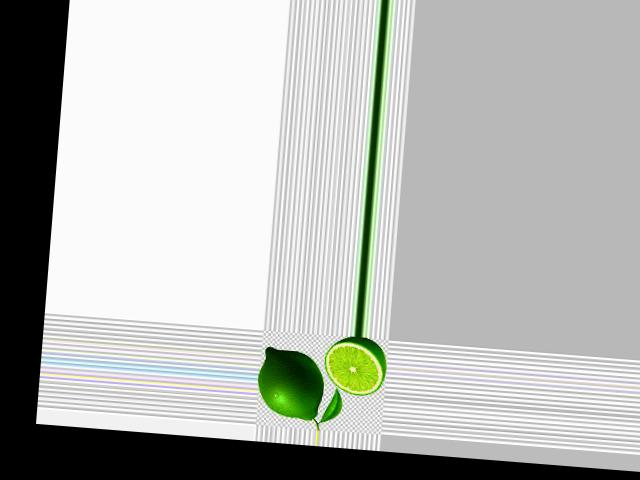lemon: (257, 343, 329, 423)
